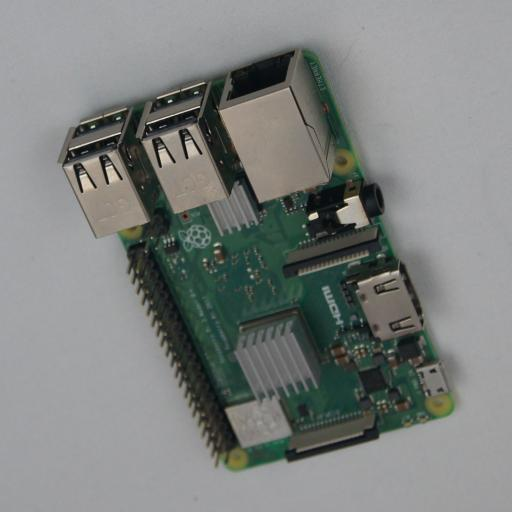Raspberry Pi 3 B-: (57, 46, 454, 468)
